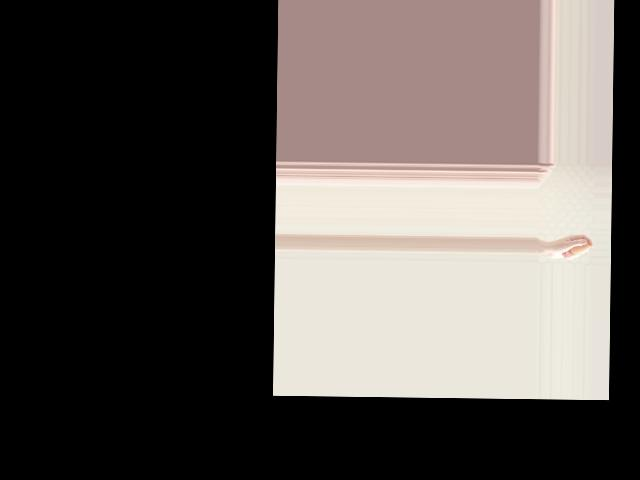egg: (569, 240, 589, 255)
